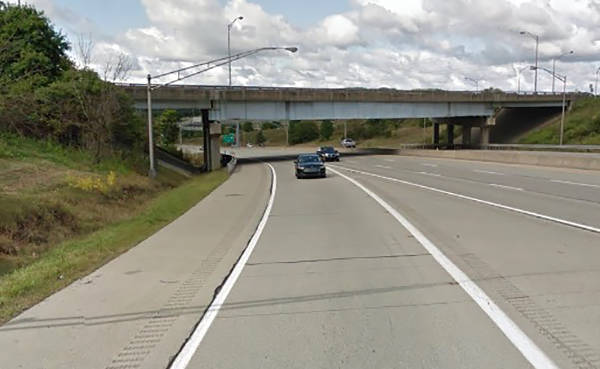bridge: (124, 82, 568, 157)
